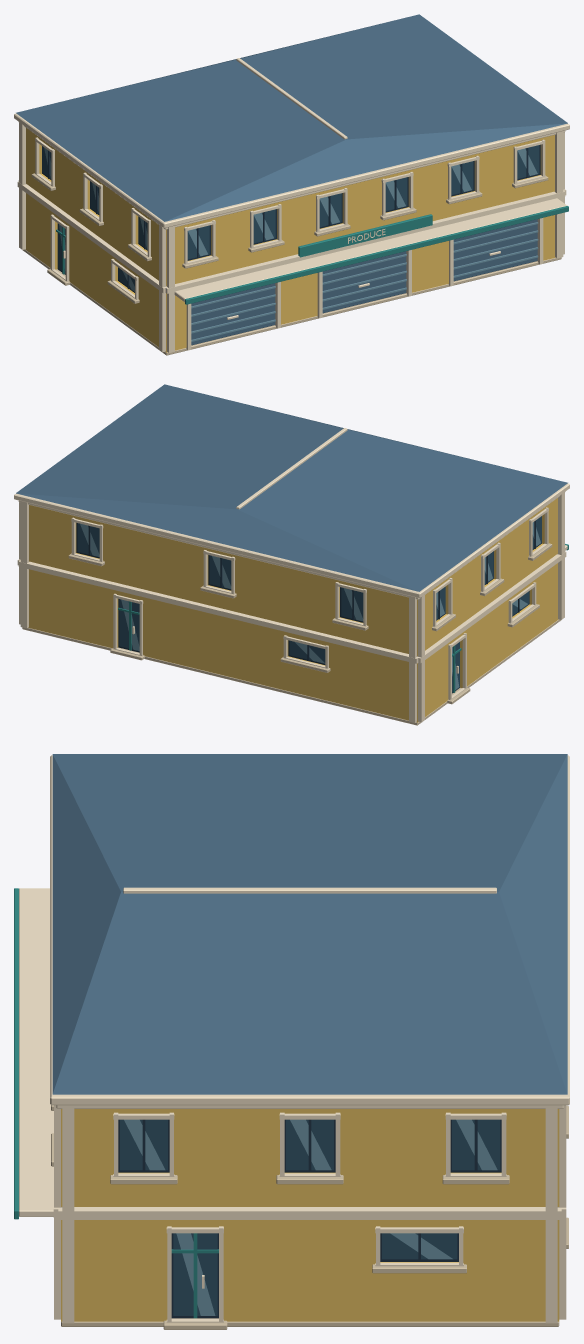
Rendered from produce_wholesaler.glb.
The picture shows the model from 3 angles, top to bottom: view 1: azimuth 30°, elevation 25°; view 2: azimuth 150°, elevation 25°; view 3: azimuth 270°, elevation 25°; orthographic projection. The views are drawn at different scales.
Parts seen in each view (by area): view 1: ProduceWholesaler_StaticMesh; view 2: ProduceWholesaler_StaticMesh; view 3: ProduceWholesaler_StaticMesh.
Part boxes in pixels (x1,y1,x2,y2): ProduceWholesaler_StaticMesh: [14, 14, 569, 355]; ProduceWholesaler_StaticMesh: [14, 384, 569, 725]; ProduceWholesaler_StaticMesh: [14, 754, 569, 1329].
Size of the model in its own units: 19.52 by 7.22 by 13.39.
